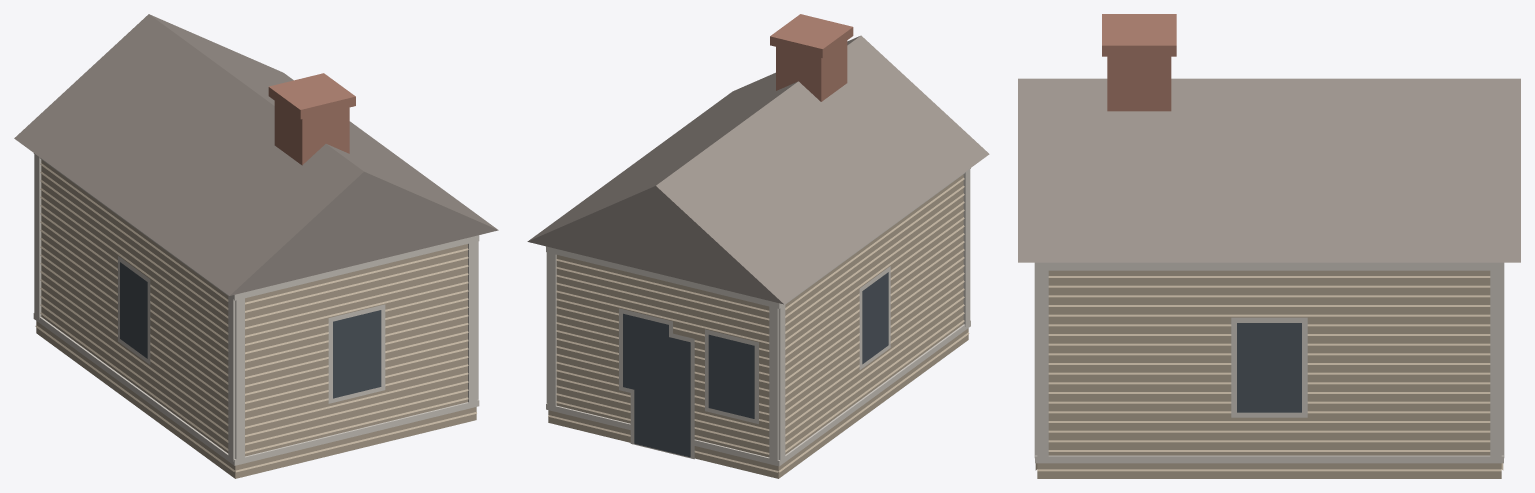
Rendered from inf_barber_shop__inferred_1835.glb.
3 renders of one model, left to right at view 1: azimuth 30°, elevation 25°; view 2: azimuth 150°, elevation 25°; view 3: azimuth 270°, elevation 25°, orthographic. The views are drawn at different scales.
Parts seen in each view (by area): view 1: inf_barber_shop__inferred_1835; view 2: inf_barber_shop__inferred_1835; view 3: inf_barber_shop__inferred_1835.
Part boxes in pixels (x1,y1,x2,y2): inf_barber_shop__inferred_1835: (14, 14, 498, 478); inf_barber_shop__inferred_1835: (527, 14, 989, 478); inf_barber_shop__inferred_1835: (1018, 14, 1520, 478).
Size of the model in its own units: 4.77 by 5.51 by 6.6.
